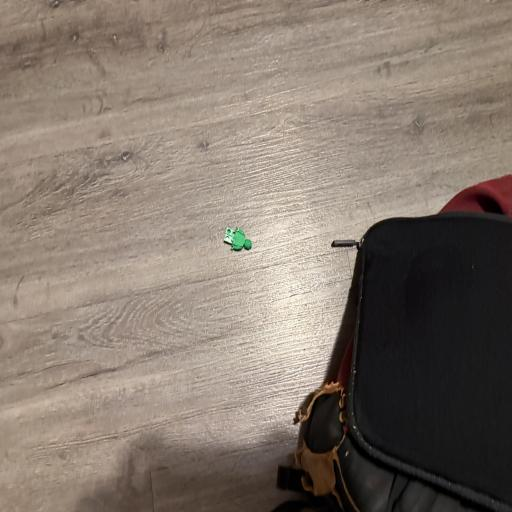Minifig: (224, 227, 252, 251)
